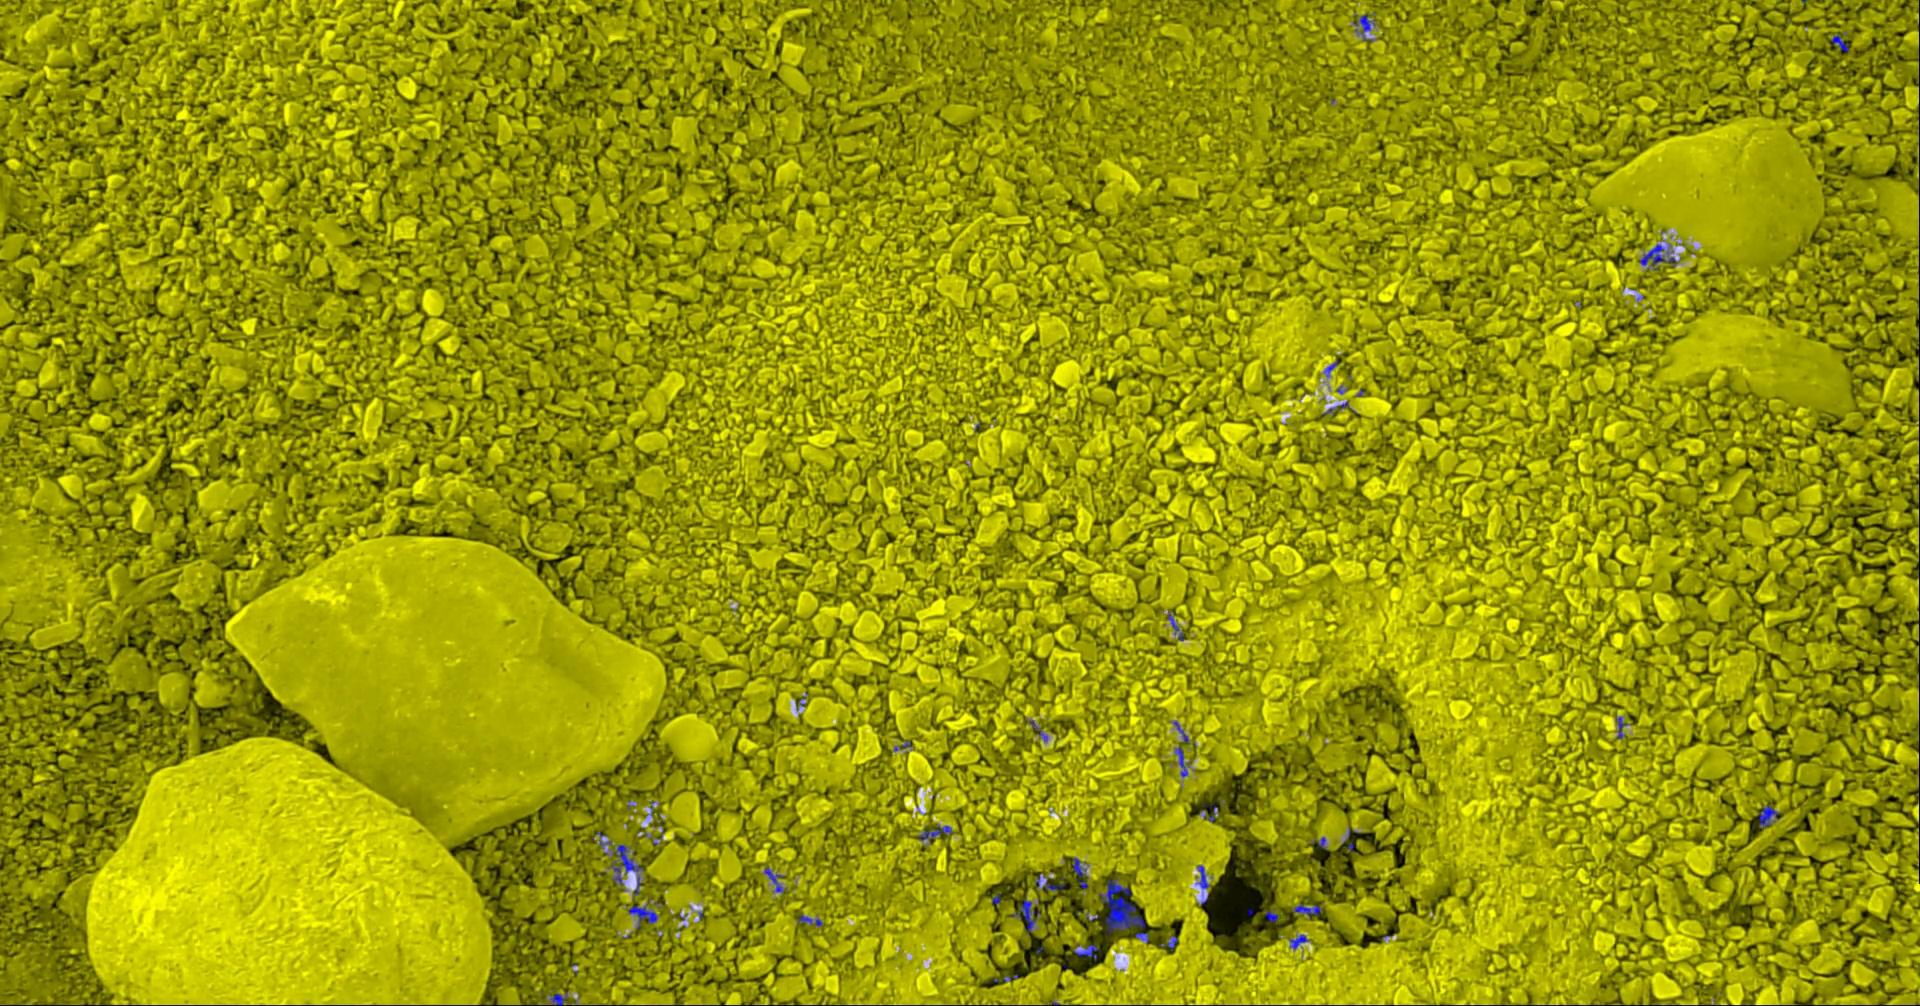ant: (608, 843, 643, 890), (1011, 899, 1040, 932), (1639, 244, 1676, 269), (627, 904, 657, 929), (1352, 14, 1375, 41), (1167, 608, 1183, 640), (763, 866, 783, 892), (1175, 746, 1191, 776), (1070, 857, 1087, 888), (1757, 805, 1779, 828), (1035, 874, 1064, 890), (918, 826, 952, 840), (1073, 944, 1097, 958), (1291, 904, 1321, 916), (1617, 716, 1630, 738), (1830, 34, 1848, 51), (1196, 865, 1209, 888), (1289, 934, 1308, 949), (549, 989, 568, 1005), (797, 913, 822, 925), (1159, 934, 1177, 949), (1265, 909, 1277, 921)
